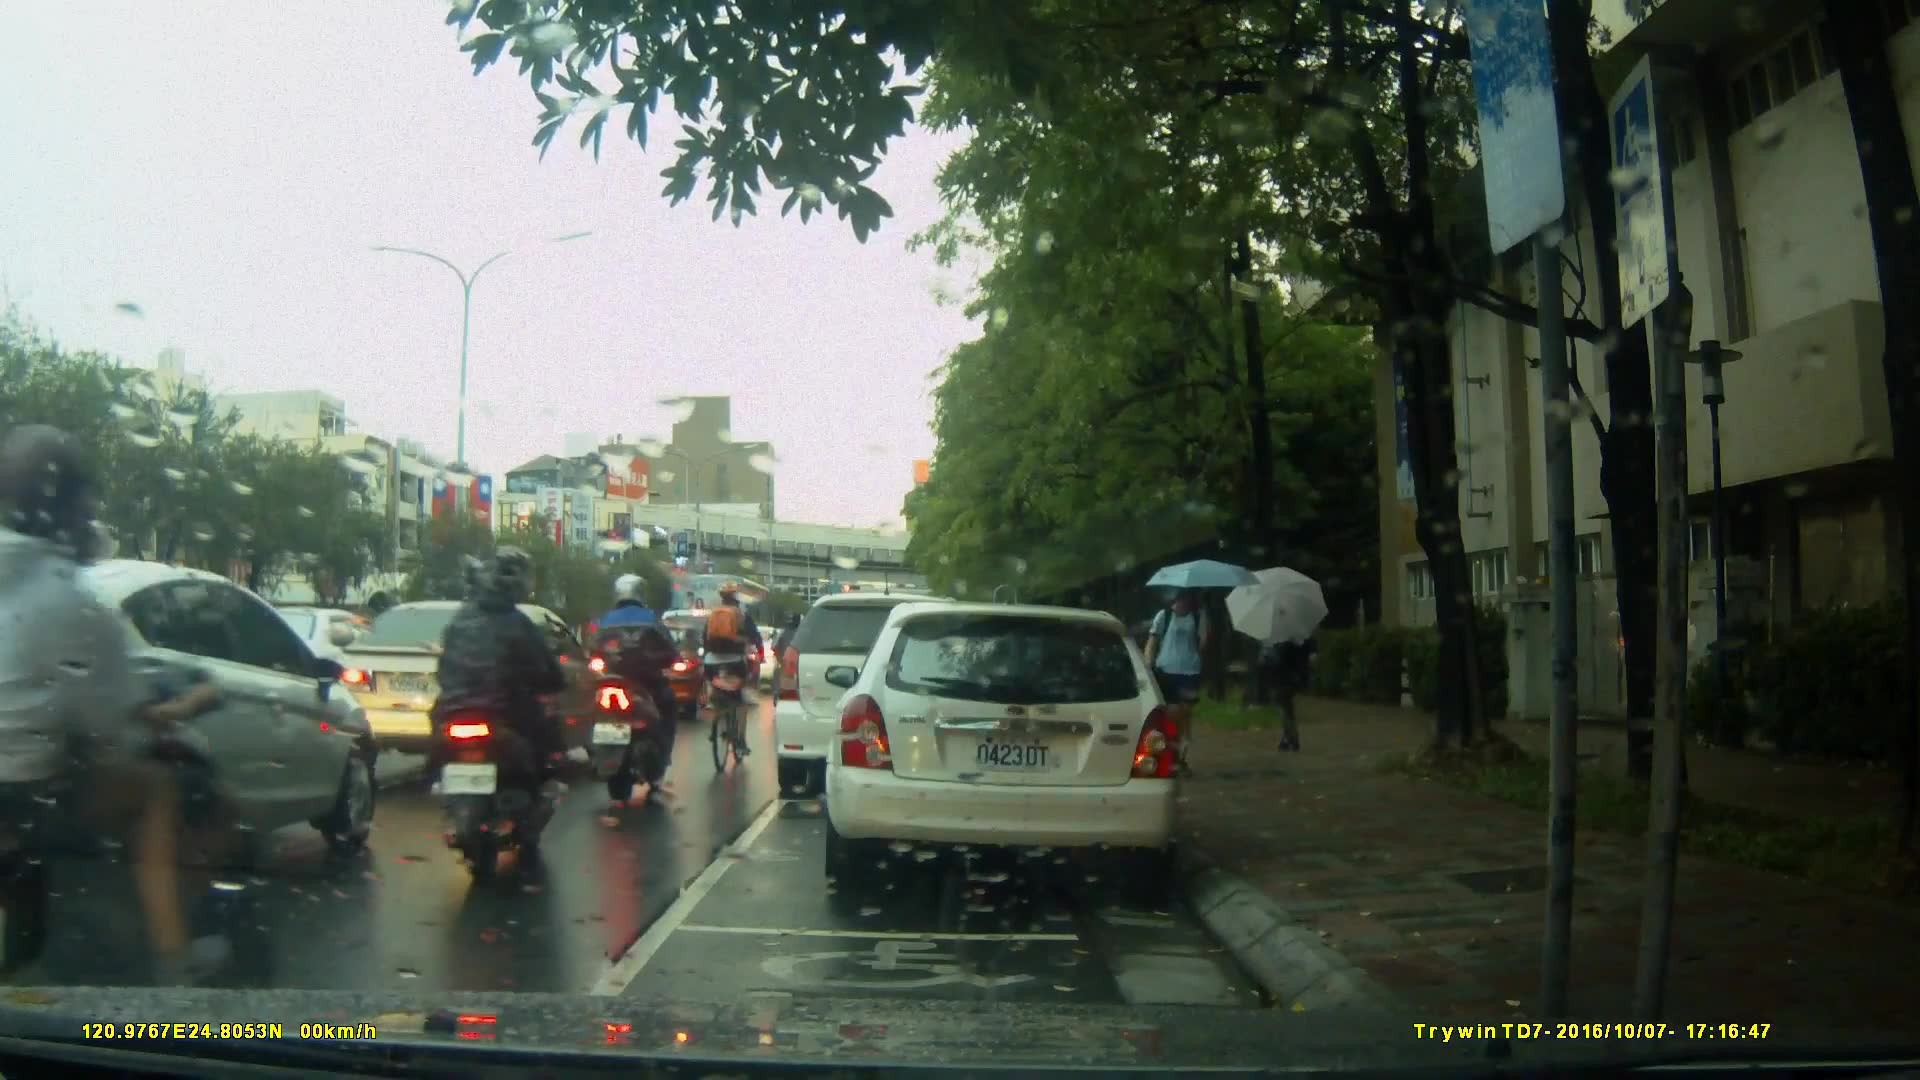pedestrian: (1152, 564, 1217, 793), (1266, 586, 1314, 754)
rider: (1, 432, 286, 1053), (433, 548, 568, 894), (594, 576, 698, 808), (708, 581, 775, 780)
vehicle: (1, 553, 384, 913), (835, 594, 1194, 898), (308, 596, 608, 787), (776, 590, 1026, 784), (579, 620, 712, 721), (668, 571, 788, 673)
